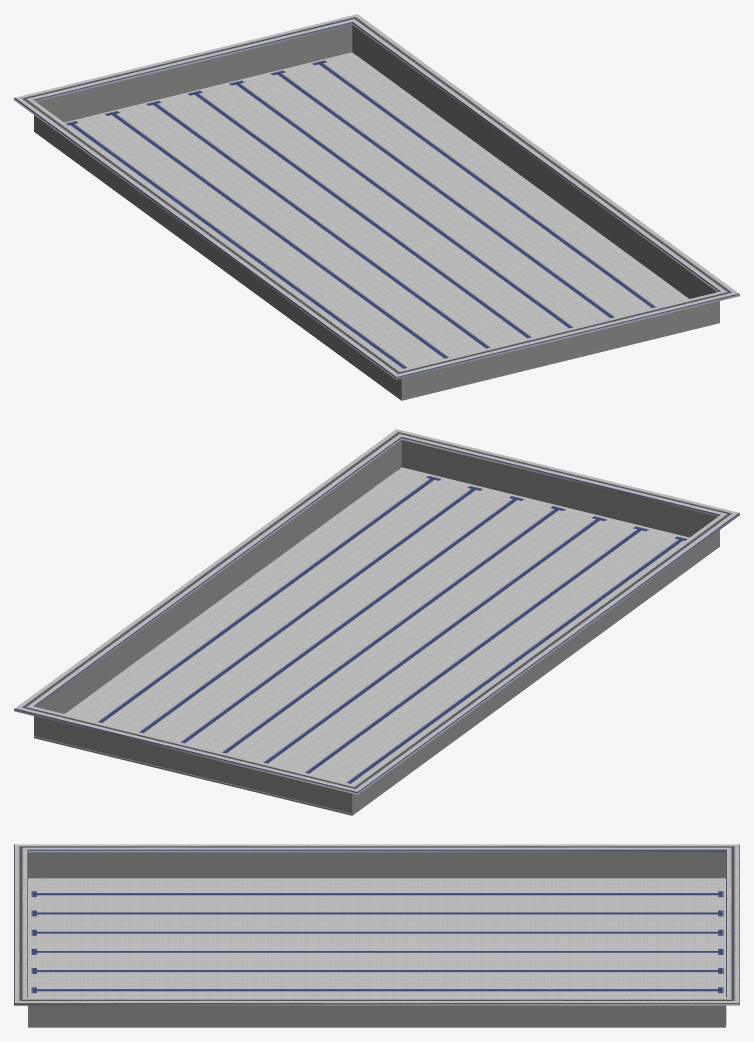
The model's file is PiscinaOlimpica.FBX.
The picture shows the model from 3 angles, top to bottom: view 1: azimuth 30°, elevation 25°; view 2: azimuth 150°, elevation 25°; view 3: azimuth 270°, elevation 25°; orthographic projection. The views are drawn at different scales.
Visible parts, largest first — view 1: Piscina02Piso, Piscina02Parede, PiscinaBorda02; view 2: Piscina02Piso, Piscina02Parede, PiscinaBorda02; view 3: Piscina02Piso, Piscina02Parede, PiscinaBorda02.
Boxes of the visible parts, bbox=[...] form: Piscina02Piso: bbox=[64, 52, 688, 369]; Piscina02Parede: bbox=[34, 25, 719, 400]; PiscinaBorda02: bbox=[14, 14, 739, 379]; Piscina02Piso: bbox=[34, 467, 689, 813]; Piscina02Parede: bbox=[34, 440, 719, 815]; PiscinaBorda02: bbox=[14, 429, 739, 794]; Piscina02Piso: bbox=[28, 878, 726, 1025]; Piscina02Parede: bbox=[28, 852, 725, 1027]; PiscinaBorda02: bbox=[14, 844, 739, 1005].
Size of the model in its own units: 27 by 2.4 by 52.
